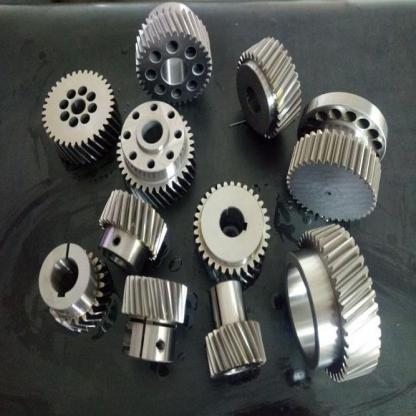FOD: (288, 222, 387, 385), (284, 130, 384, 224), (115, 96, 196, 206), (132, 0, 215, 104), (40, 70, 118, 168), (233, 35, 304, 140), (195, 181, 270, 277), (37, 245, 110, 343), (122, 269, 186, 367), (99, 184, 169, 271)
